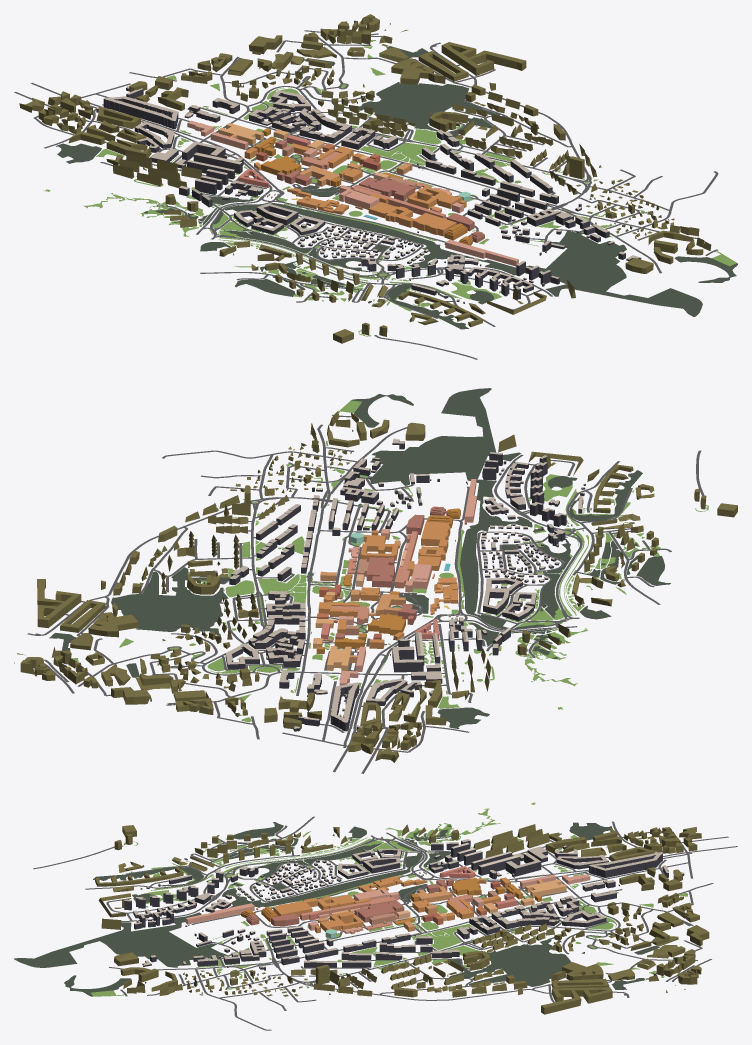
The model's file is johanneberg.glb.
3 renders of one model, top to bottom at view 1: azimuth 30°, elevation 25°; view 2: azimuth 150°, elevation 25°; view 3: azimuth 270°, elevation 25°, orthographic. The views are drawn at different scales.
Parts seen in each view (by area): view 1: far_away_building, buildings, pass_forest, pass_roads_unclassified, pass_vegetation, buildings.946, buildings.914, buildings.709, buildings.629, buildings.028, buildings.714; view 2: far_away_building, buildings, pass_forest, pass_roads_unclassified, pass_vegetation, buildings.946, buildings.709, buildings.914, buildings.629, buildings.001; view 3: far_away_building, buildings, pass_forest, pass_roads_unclassified, pass_vegetation, buildings.946, buildings.914, buildings.709, buildings.028, buildings.629, buildings.721, buildings.713 (+1 smaller).
Part boxes in pixels (x1=…): far_away_building: x1=19, y1=14, x2=711, y2=343; buildings: x1=96, y1=86, x2=677, y2=303; pass_forest: x1=56, y1=46, x2=737, y2=329; pass_roads_unclassified: x1=14, y1=30, x2=718, y2=359; pass_vegetation: x1=43, y1=40, x2=736, y2=336; buildings.946: x1=368, y1=202, x2=456, y2=236; buildings.914: x1=407, y1=186, x2=462, y2=208; buildings.709: x1=358, y1=177, x2=415, y2=201; buildings.629: x1=287, y1=188, x2=348, y2=214; buildings.028: x1=445, y1=239, x2=518, y2=266; buildings.714: x1=339, y1=185, x2=379, y2=209; far_away_building: x1=14, y1=411, x2=737, y2=762; buildings: x1=225, y1=429, x2=585, y2=731; pass_forest: x1=49, y1=388, x2=670, y2=728; pass_roads_unclassified: x1=27, y1=415, x2=706, y2=773; pass_vegetation: x1=71, y1=400, x2=708, y2=722; buildings.946: x1=417, y1=521, x2=450, y2=570; buildings.709: x1=366, y1=557, x2=394, y2=587; buildings.914: x1=360, y1=535, x2=398, y2=560; buildings.629: x1=430, y1=577, x2=458, y2=614; buildings.001: x1=368, y1=614, x2=405, y2=635; far_away_building: x1=95, y1=824, x2=709, y2=1014; buildings: x1=124, y1=836, x2=684, y2=983; pass_forest: x1=14, y1=822, x2=659, y2=996; pass_roads_unclassified: x1=33, y1=816, x2=737, y2=1030; pass_vegetation: x1=91, y1=802, x2=687, y2=996; buildings.946: x1=273, y1=894, x2=355, y2=916; buildings.914: x1=320, y1=911, x2=363, y2=931; buildings.709: x1=354, y1=900, x2=404, y2=922; buildings.028: x1=185, y1=903, x2=254, y2=924; buildings.629: x1=358, y1=875, x2=427, y2=892; buildings.721: x1=525, y1=879, x2=566, y2=897; buildings.713: x1=300, y1=896, x2=394, y2=920.
Size of what is drawn, in the model's own units: 1643 by 54.16 by 2200.
